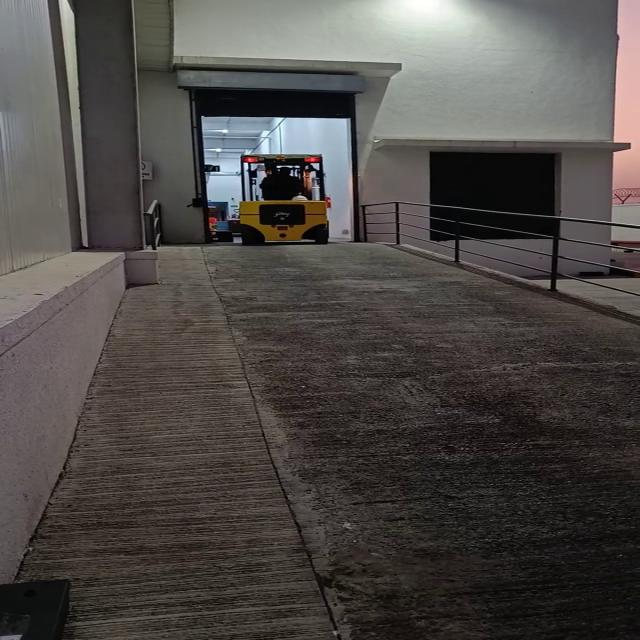Chariot elevateur: (223, 149, 346, 250)
